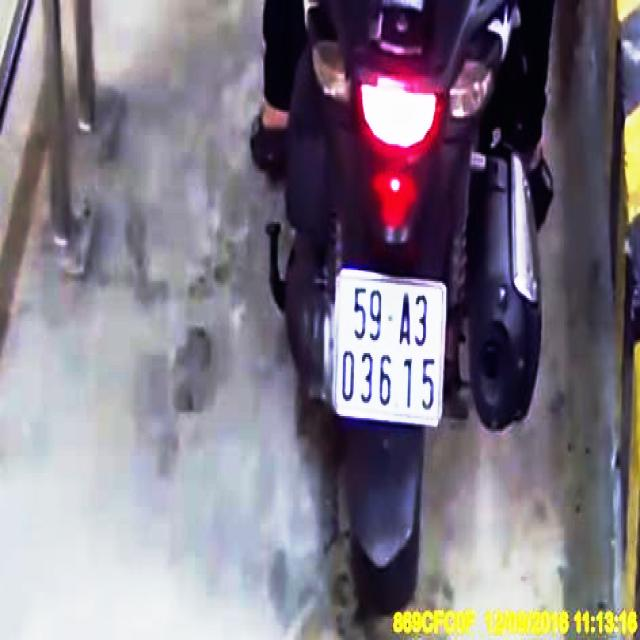license_plate: (336, 277, 445, 424)
